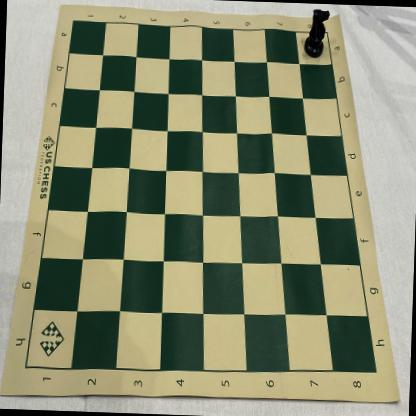knight: (303, 9, 330, 59)
